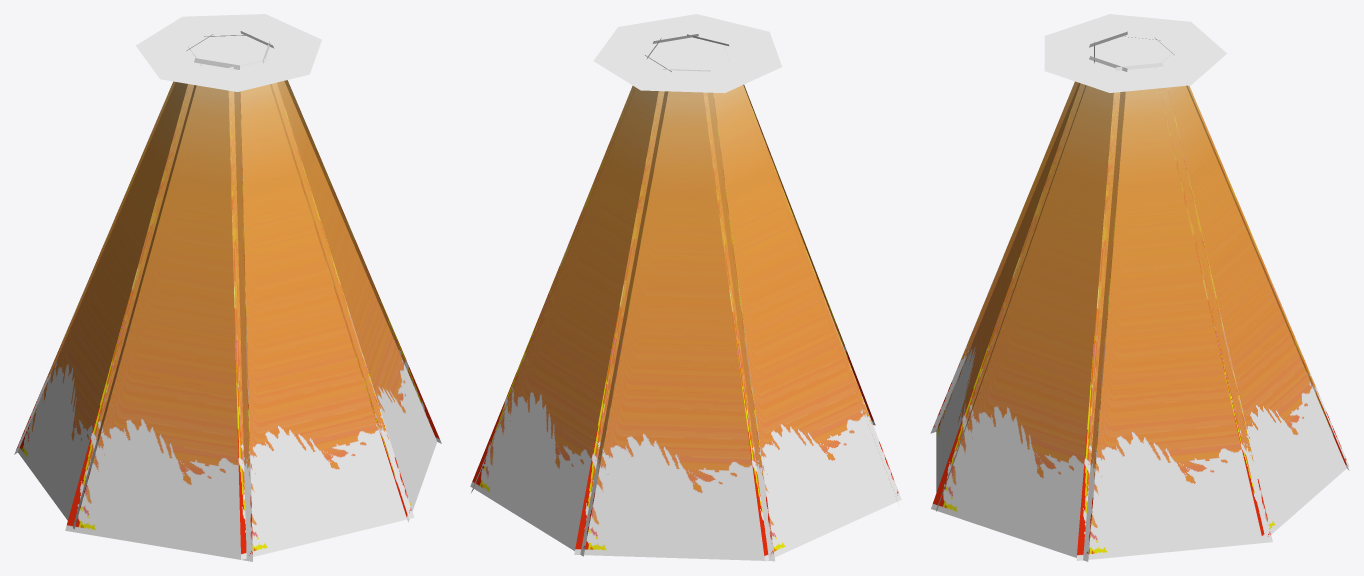
The model's file is glow-cone.fbx.
3 renders of one model, left to right at view 1: azimuth 30°, elevation 25°; view 2: azimuth 150°, elevation 25°; view 3: azimuth 270°, elevation 25°, orthographic.
Parts seen in each view (by area): view 1: Cylinder; view 2: Cylinder; view 3: Cylinder.
Part boxes in pixels (x1,y1,x2,y2): Cylinder: (14,14,441,561); Cylinder: (470,14,901,561); Cylinder: (930,14,1349,561).
Size of the model in its own units: 208 by 225 by 202.
Materials: 1 (1 with a texture image).
